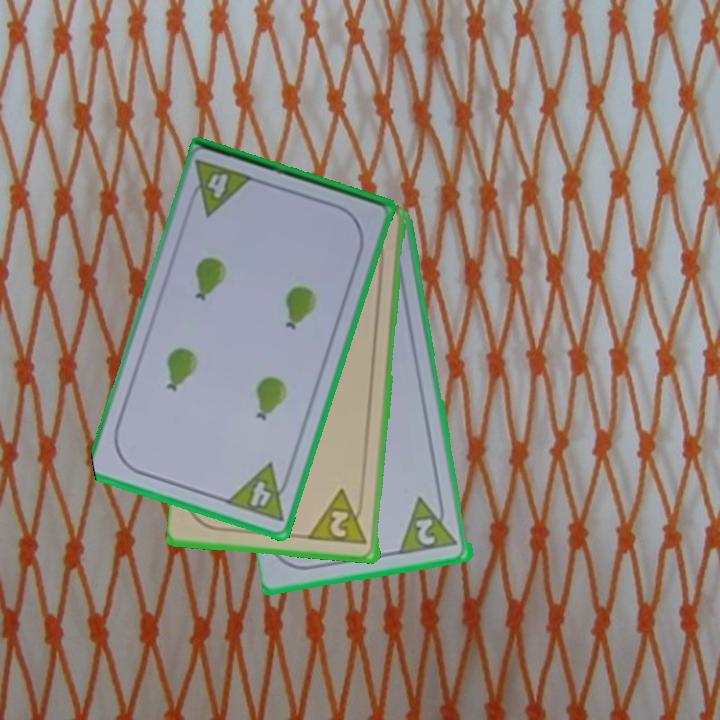2p: (307, 486, 371, 548), (413, 515, 439, 549)
4p: (222, 459, 296, 525), (184, 156, 257, 219)
